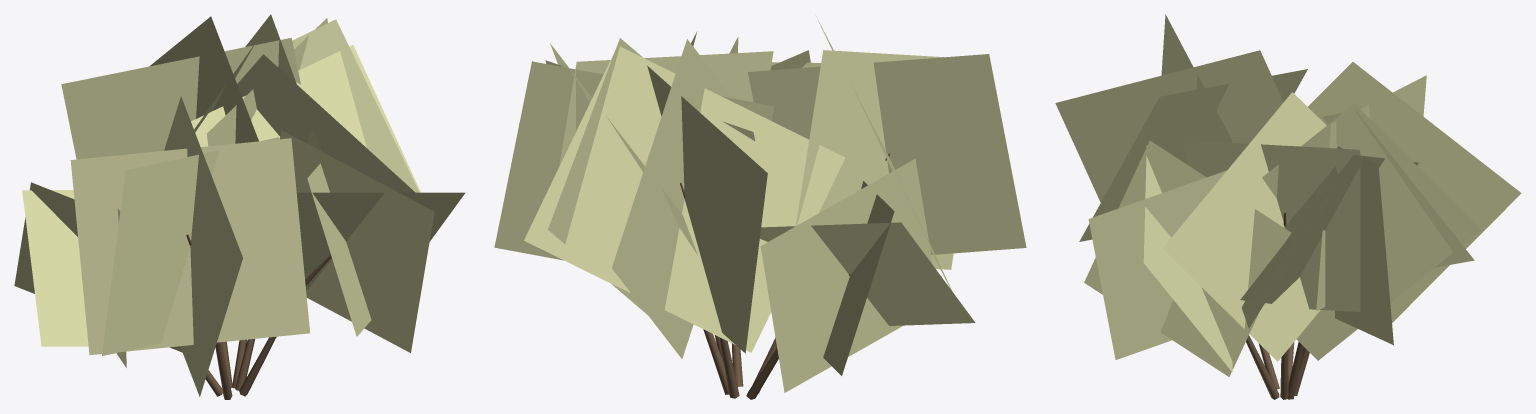
File: viburnum.glb
The picture shows the model from 3 angles, left to right: view 1: azimuth 30°, elevation 25°; view 2: azimuth 150°, elevation 25°; view 3: azimuth 270°, elevation 25°; orthographic projection. The views are drawn at different scales.
Visible parts, largest first — view 1: Foliage, viburnum; view 2: Foliage, viburnum; view 3: Foliage, viburnum.
Boxes of the visible parts, box(x1,y1,x2,y2) form: Foliage: box(14, 14, 465, 396); viburnum: box(186, 234, 346, 399); Foliage: box(494, 16, 1026, 392); viburnum: box(680, 153, 890, 399); Foliage: box(1055, 14, 1521, 376); viburnum: box(1246, 213, 1309, 399).
Bounding box in the file's own units: 2.95 × 2.58 × 3.2.
